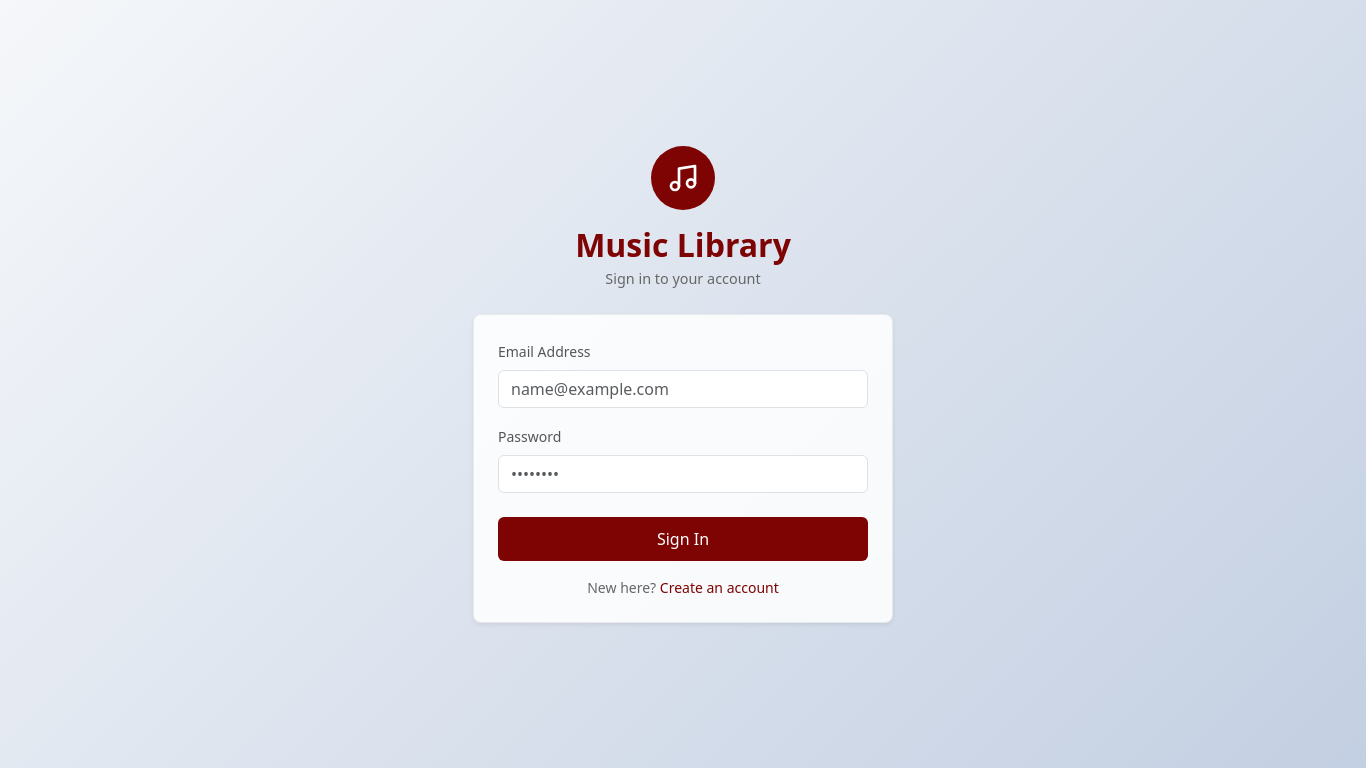
Test: Login component › API calls › shows loading state while request is pending
In the field with placeholder "name@example.com": [683, 388] box [498, 370, 868, 408], type "user@music.com"
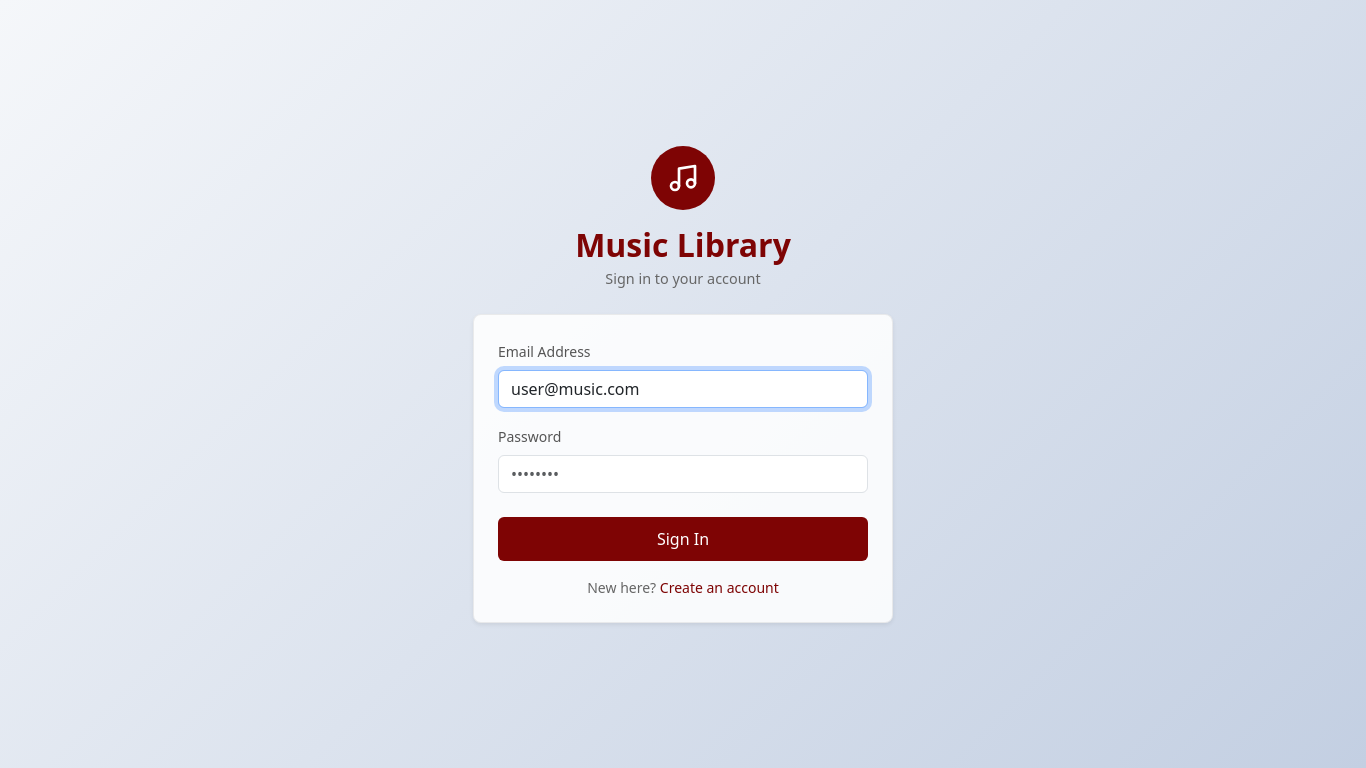
In the password field with placeholder "••••••••": [683, 474] box [498, 454, 868, 492], type "password123"
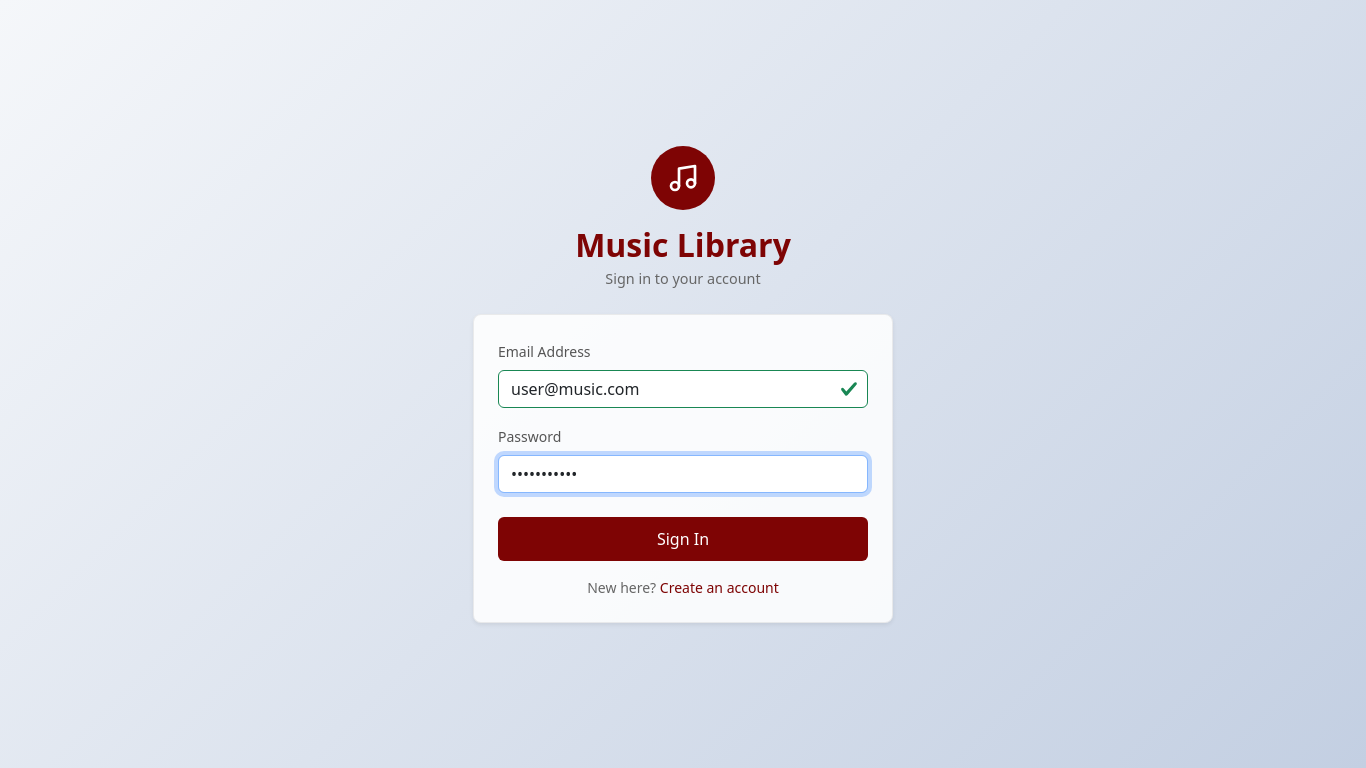
Click the button "Sign In": [683, 538] box [498, 516, 868, 560]
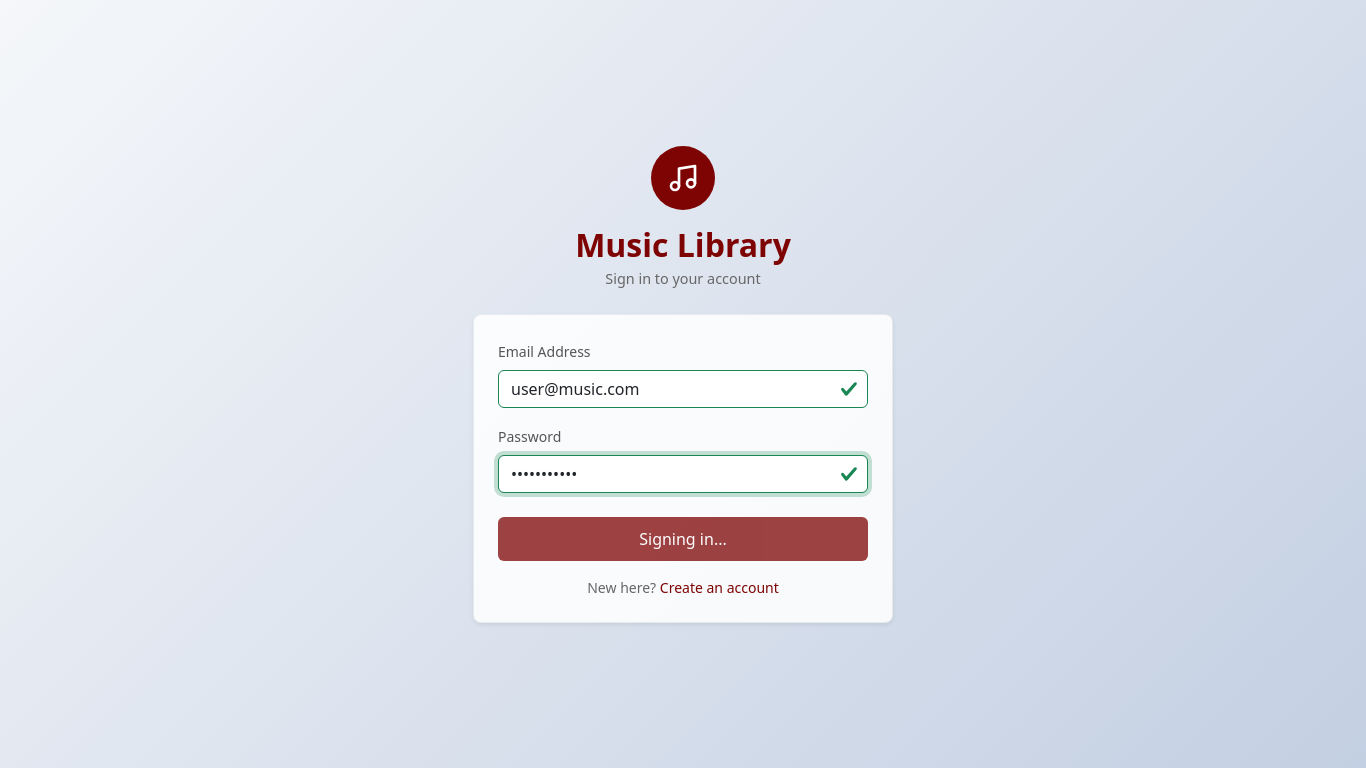
Now the button "Signing in..." is shown, box [498, 516, 868, 560]
